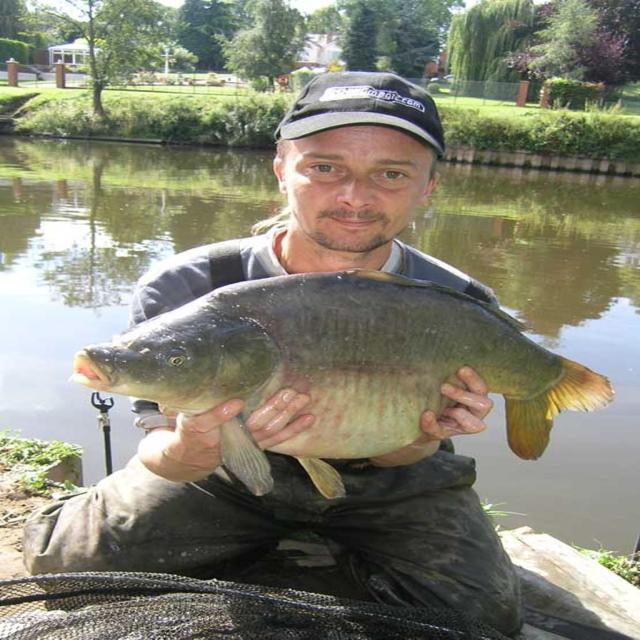Face: (272, 115, 439, 254)
